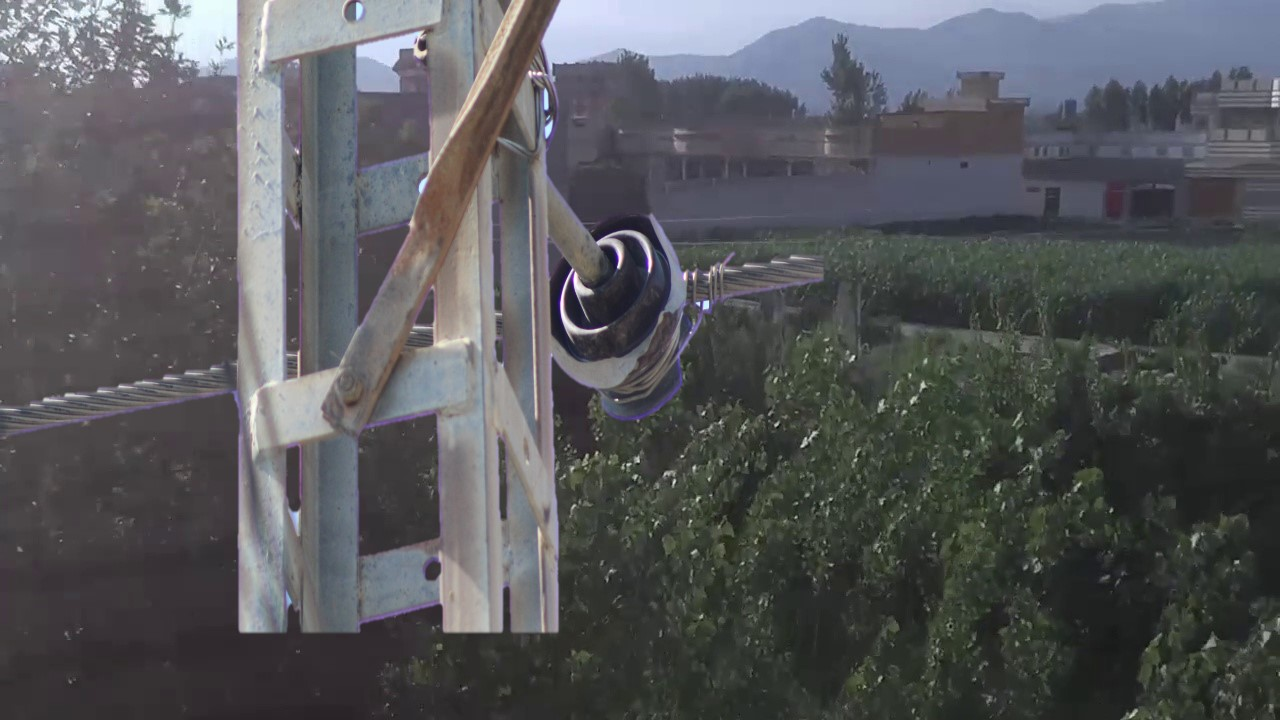defect_pin: (544, 208, 704, 434)
